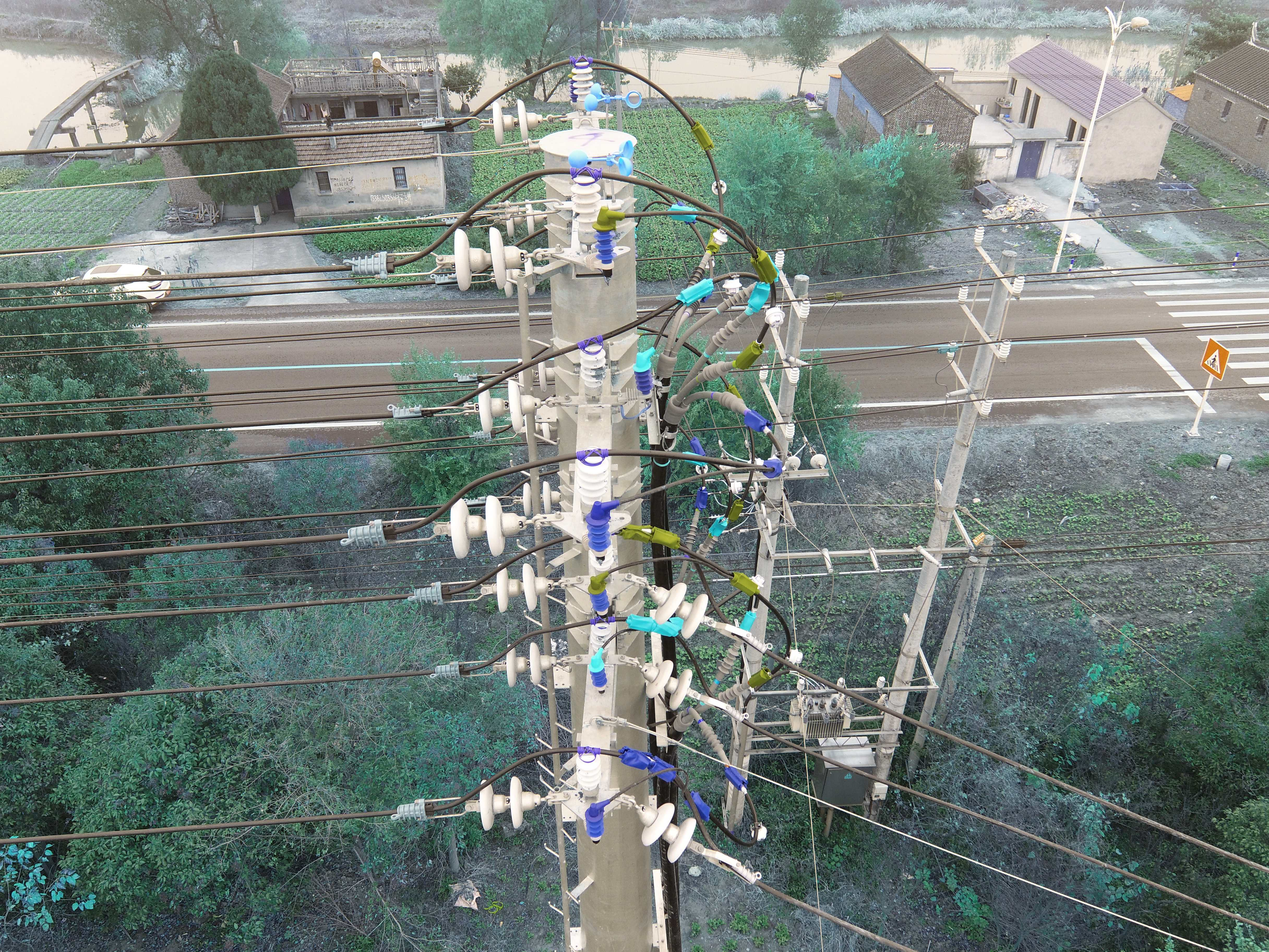severe_soiling_no_discharge_whole: (569, 171, 605, 245), (577, 341, 611, 396), (570, 61, 595, 112), (589, 620, 614, 660)
